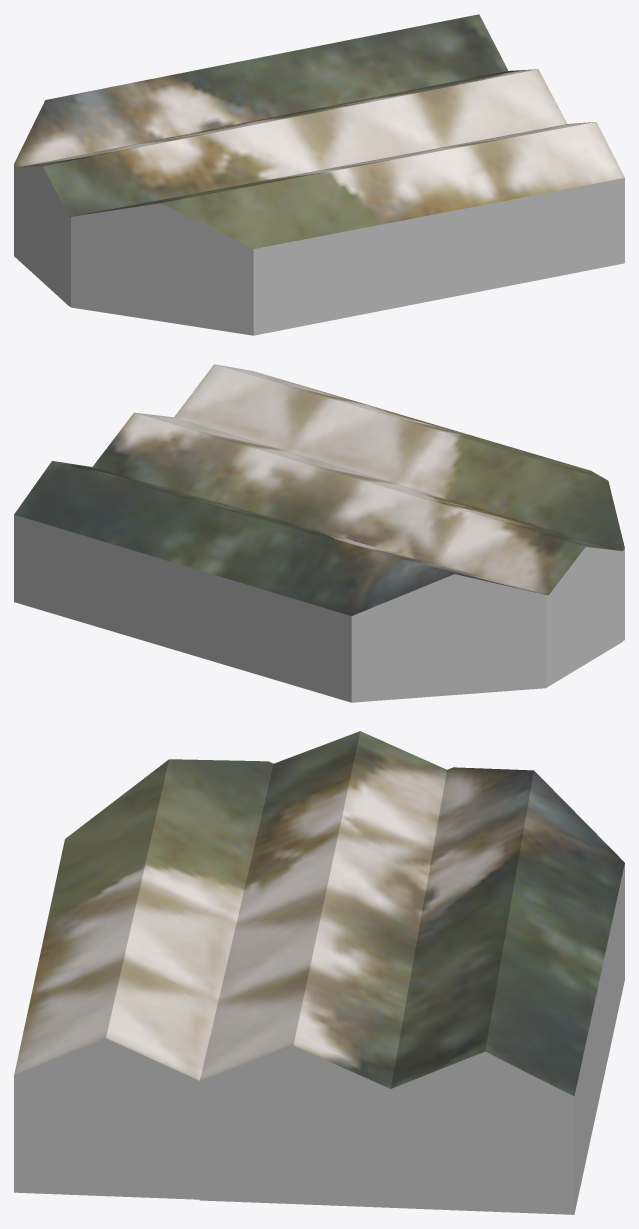
Rendered from DEBW_0010007TI01.gltf.
The picture shows the model from 3 angles, top to bottom: view 1: azimuth 30°, elevation 25°; view 2: azimuth 150°, elevation 25°; view 3: azimuth 270°, elevation 25°; orthographic projection. The views are drawn at different scales.
Parts seen in each view (by area): view 1: Z_UP; view 2: Z_UP; view 3: Z_UP.
Part boxes in pixels (box(x1,y1,x2,y2)): Z_UP: box(14, 14, 624, 335); Z_UP: box(14, 364, 624, 702); Z_UP: box(14, 731, 624, 1214).
Bounding box in the file's own units: 18.75 × 4.36 × 14.74.
Materials: 2 (1 with a texture image).
